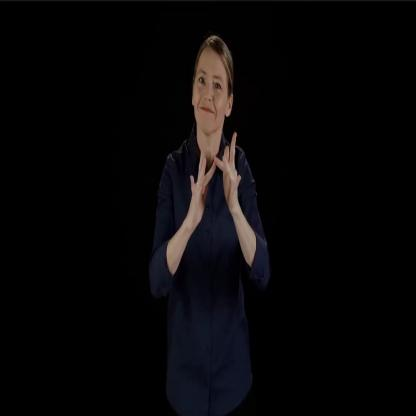Internet: (188, 131, 242, 228)
